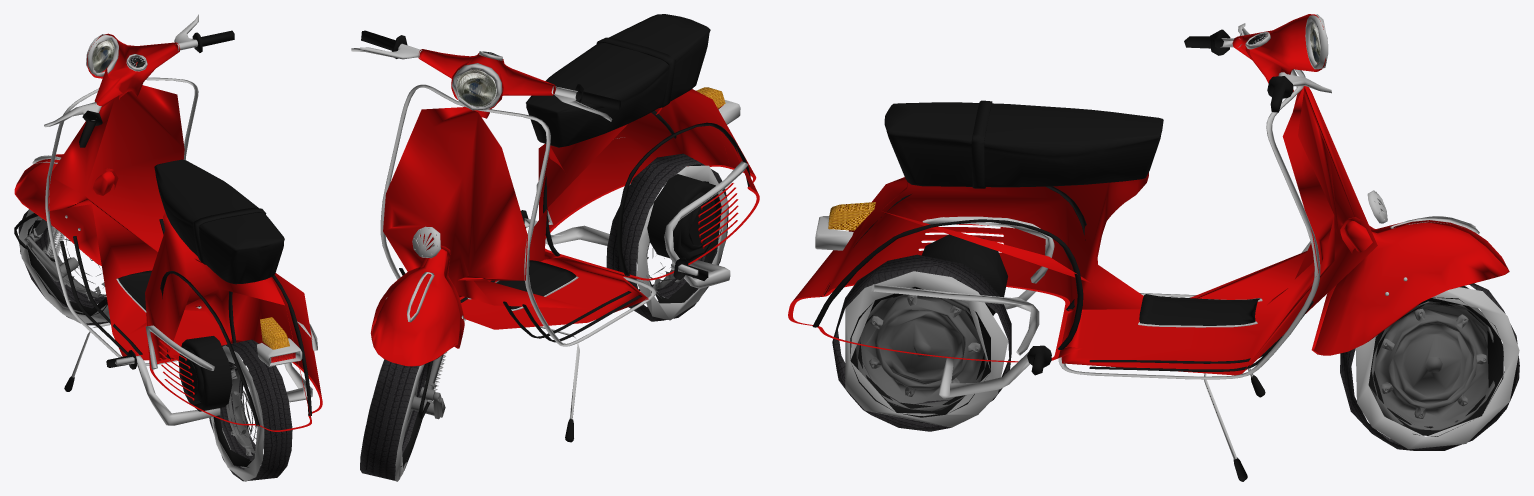
The model's file is v_vsp.glb.
3 views of the same model, side by side, from view 1: azimuth 30°, elevation 25°; view 2: azimuth 150°, elevation 25°; view 3: azimuth 270°, elevation 25° (orthographic). The views are drawn at different scales.
Visible parts, largest first — view 1: GUIDON_red_0, Tube003_Material #59_0, FEUX_Material #85_0, PHARE_Material #72_0; view 2: GUIDON_red_0, Tube003_Material #59_0, PHARE_Material #72_0; view 3: GUIDON_red_0, Tube003_Material #59_0, FEUX_Material #85_0.
Part boxes in pixels (x1,y1,x2,y2): GUIDON_red_0: (14, 14, 322, 481); Tube003_Material #59_0: (18, 210, 292, 481); FEUX_Material #85_0: (260, 317, 289, 349); PHARE_Material #72_0: (92, 39, 114, 72); GUIDON_red_0: (351, 14, 759, 481); Tube003_Material #59_0: (360, 153, 728, 480); PHARE_Material #72_0: (456, 69, 497, 107); GUIDON_red_0: (788, 14, 1519, 481); Tube003_Material #59_0: (832, 254, 1519, 450); FEUX_Material #85_0: (828, 202, 875, 230).
Size of the model in its own units: 73.44 by 109 by 174.
Materials: 6 (5 with a texture image).
